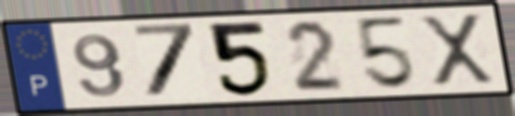2: (283, 18, 348, 94)
5: (203, 18, 277, 98), (350, 14, 420, 92)
7: (130, 21, 200, 103)
9: (69, 31, 126, 98)
X: (415, 11, 499, 90)
